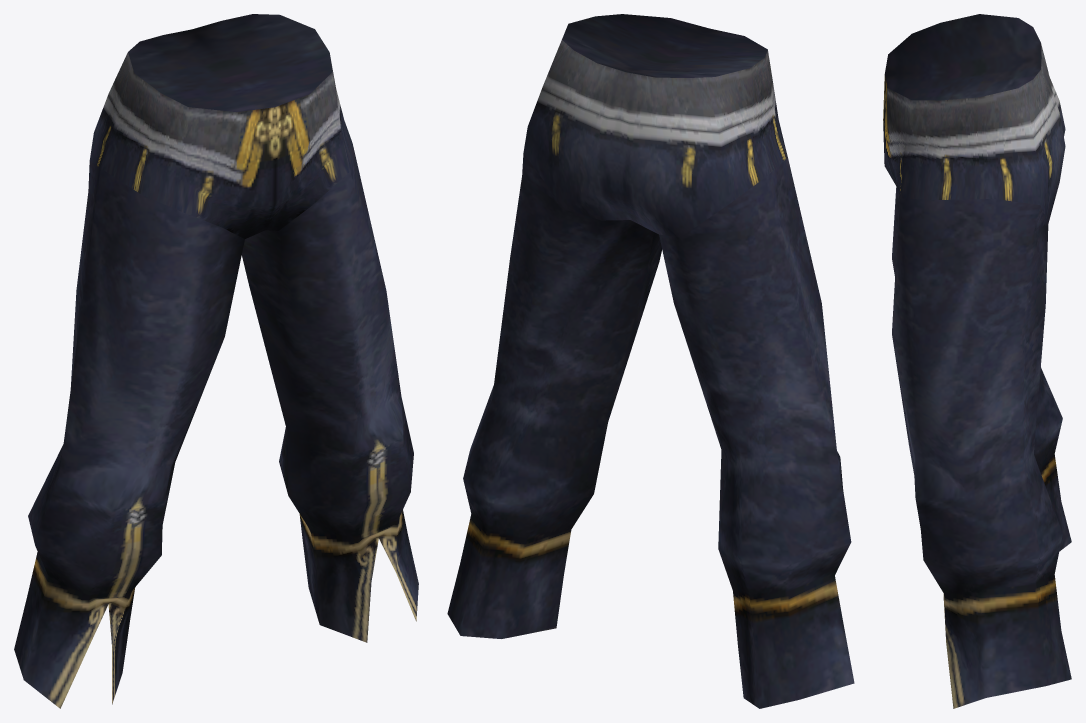
The picture shows the model from 3 angles, left to right: view 1: azimuth 30°, elevation 25°; view 2: azimuth 150°, elevation 25°; view 3: azimuth 270°, elevation 25°; orthographic projection. The views are drawn at different scales.
Visible parts, largest first — view 1: clothes_02_la; view 2: clothes_02_la; view 3: clothes_02_la.
Boxes of the visible parts, box(x1,y1,x2,y2) form: clothes_02_la: box(14, 14, 418, 708); clothes_02_la: box(447, 14, 854, 708); clothes_02_la: box(883, 14, 1071, 708).
Size of the model in its own units: 0.6134 by 0.9118 by 0.2684.
1 material, 1 textured.
